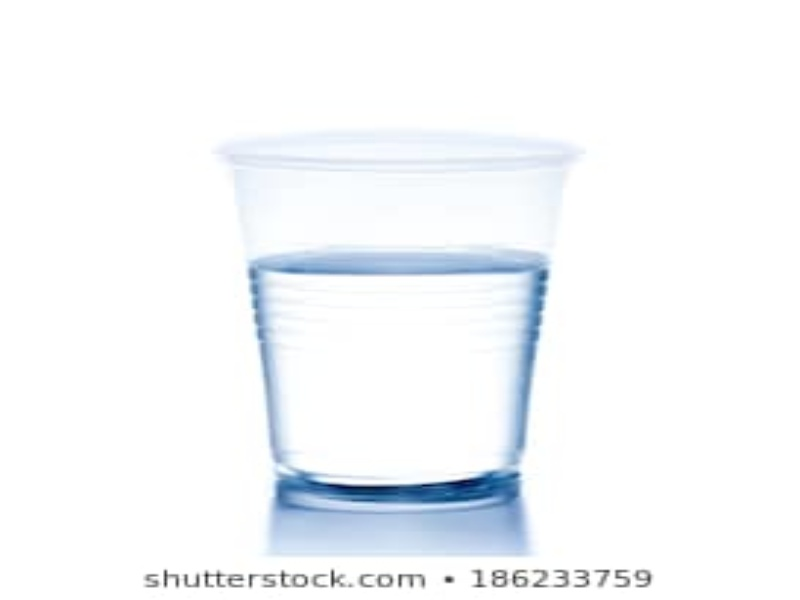plastic-cup: (214, 129, 590, 517)
